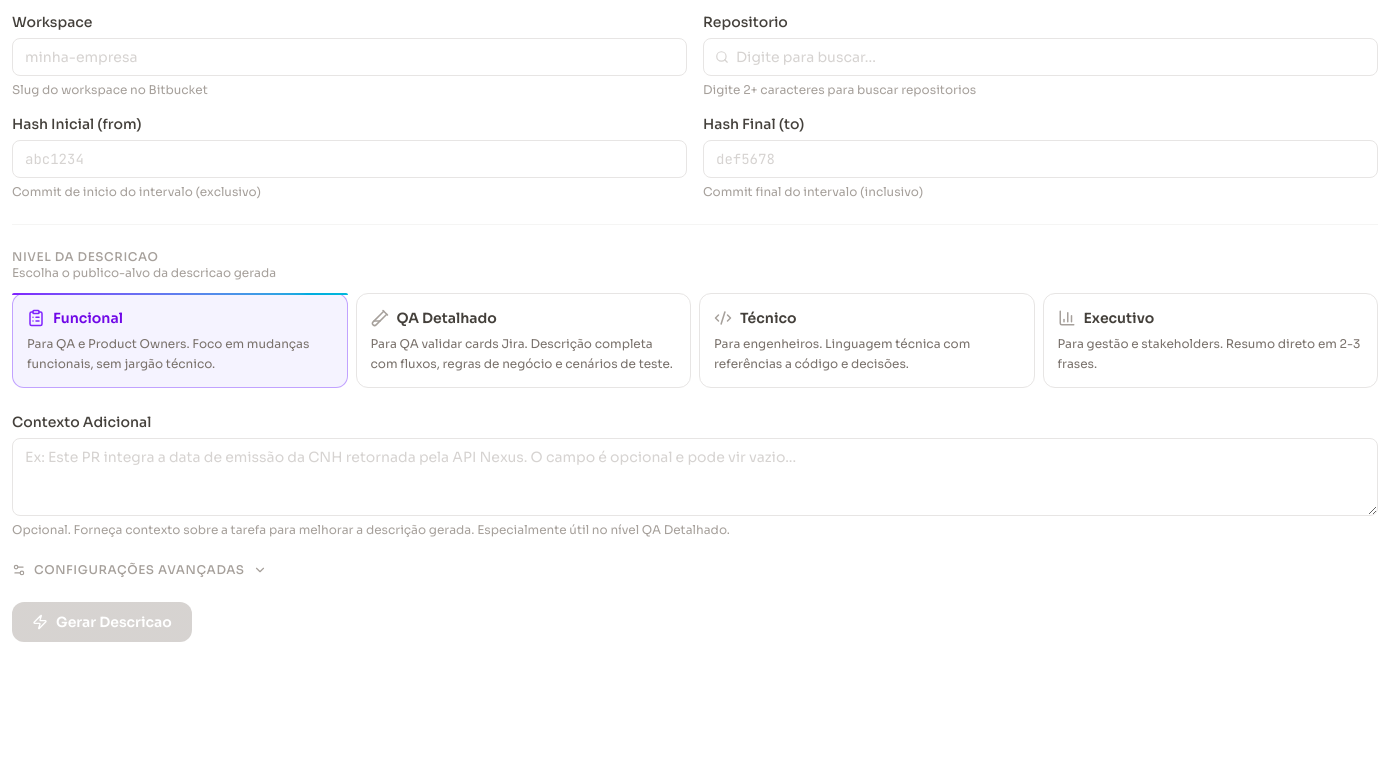
Scenario: RangeForm › enables submit when all fields are filled
This screenshot has width=1390, height=780.
Type "ws" into the field labelled "Workspace" at (350, 57), box [12,38,687,76]
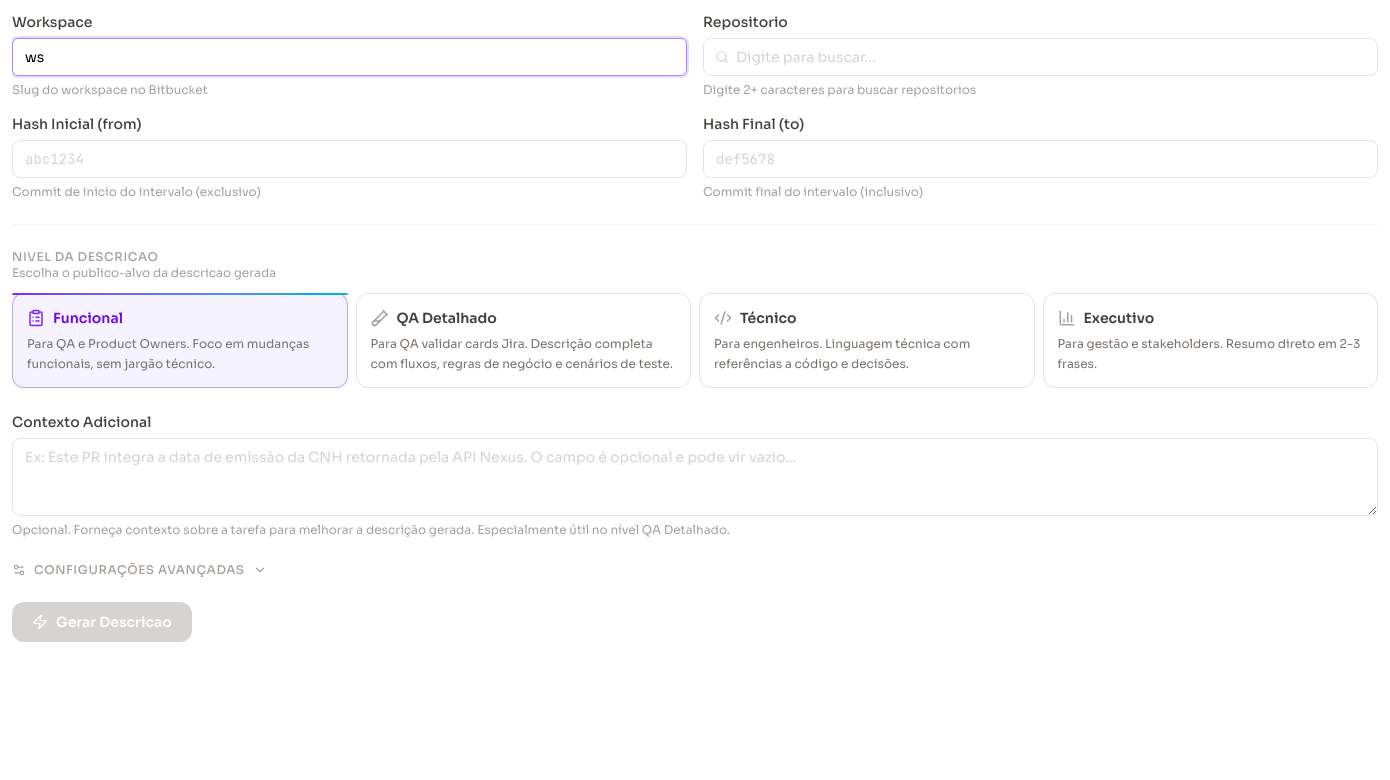
Type "repo" into the field labelled "Repositorio" at (1040, 57), box [703,38,1378,76]
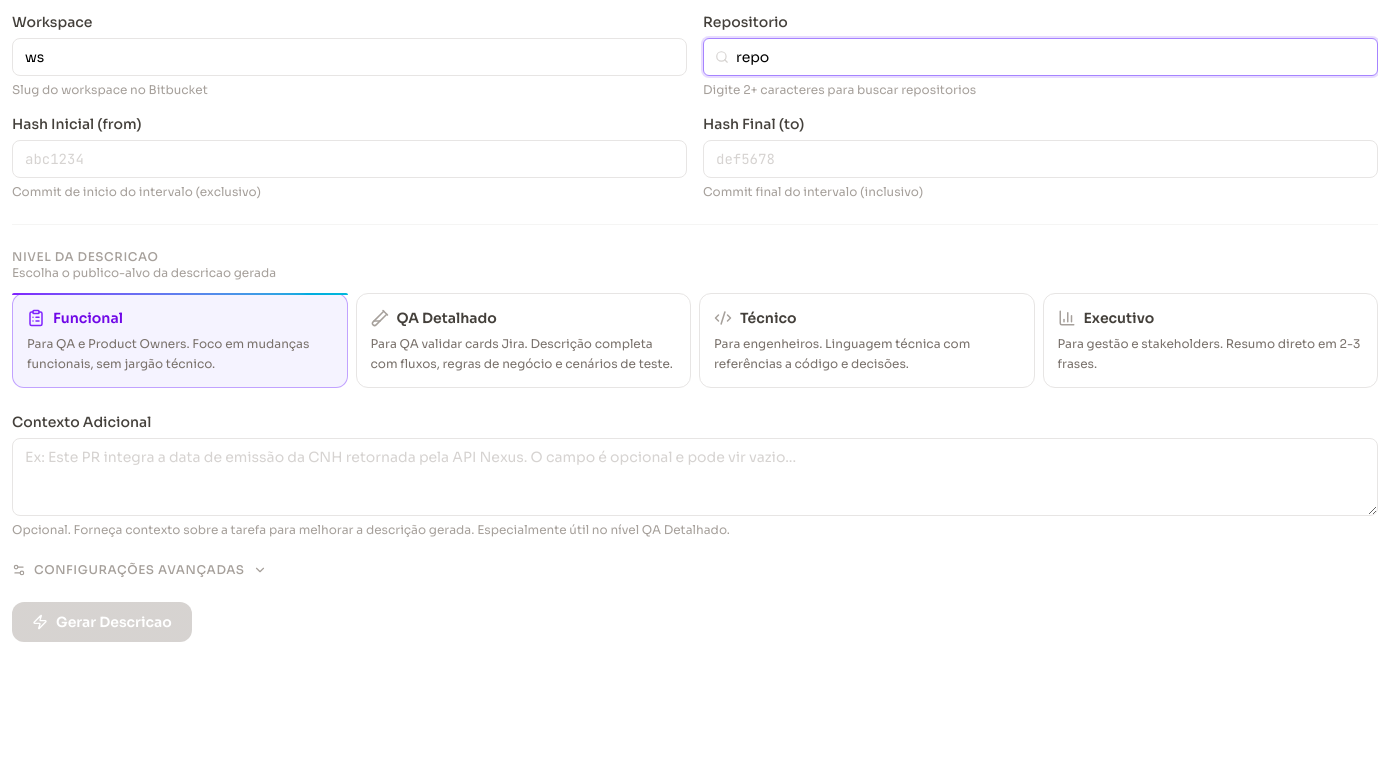
Type "abc" into the field labelled "Hash Inicial (from)" at (350, 159), box [12,140,687,178]
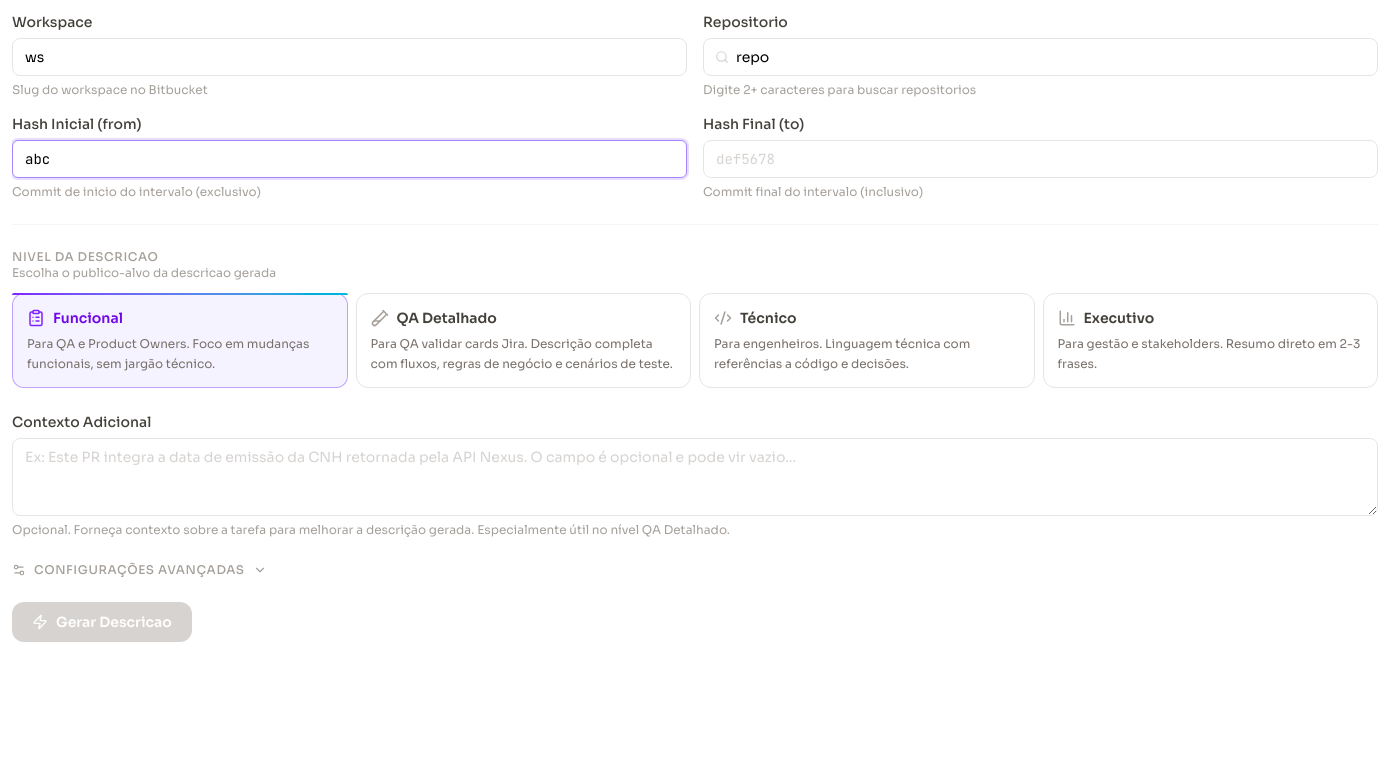
Type "def" into the field labelled "Hash Final (to)" at (1040, 159), box [703,140,1378,178]
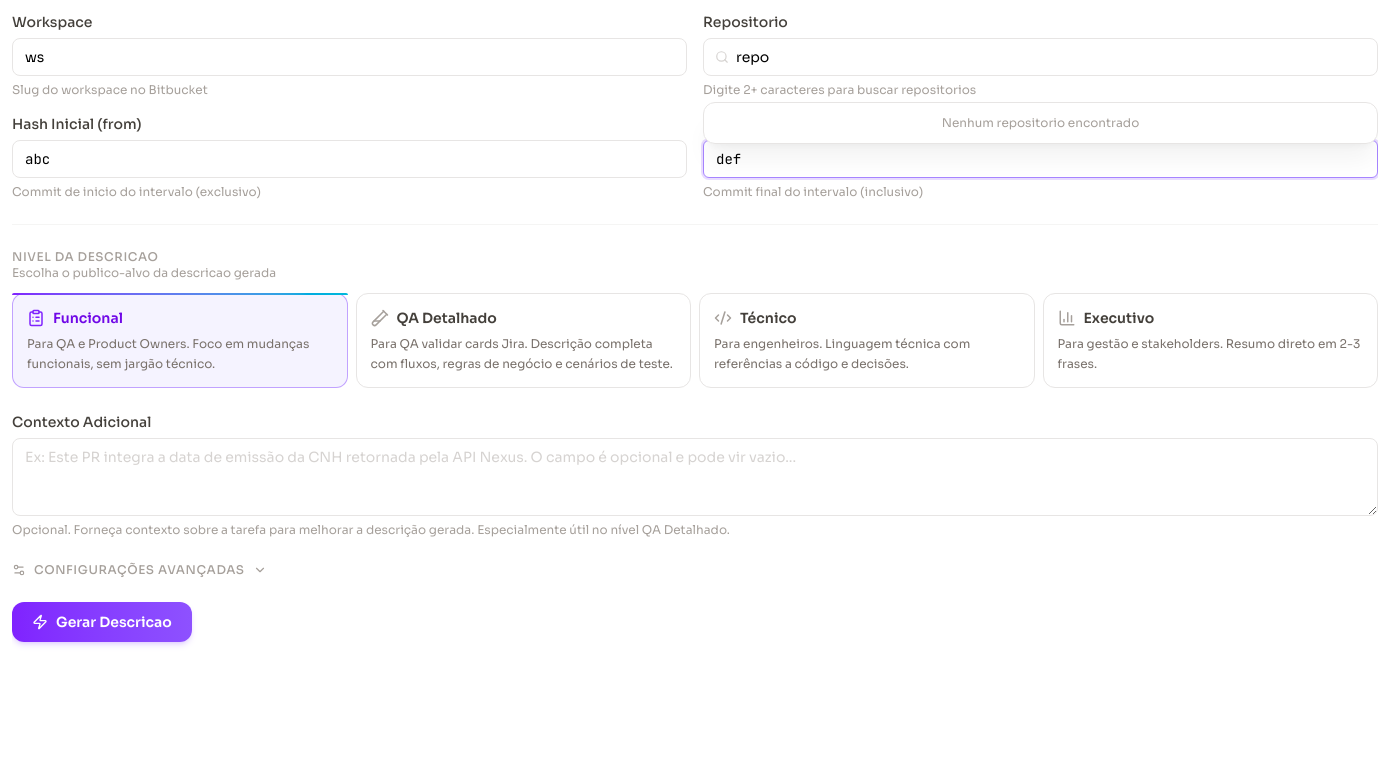
Expected: the button "Gerar Descricao" is enabled, [12,602,192,642]
